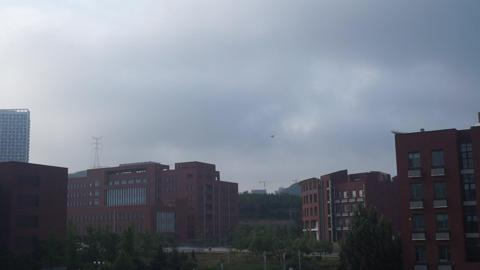UAV: (270, 135, 276, 138)
